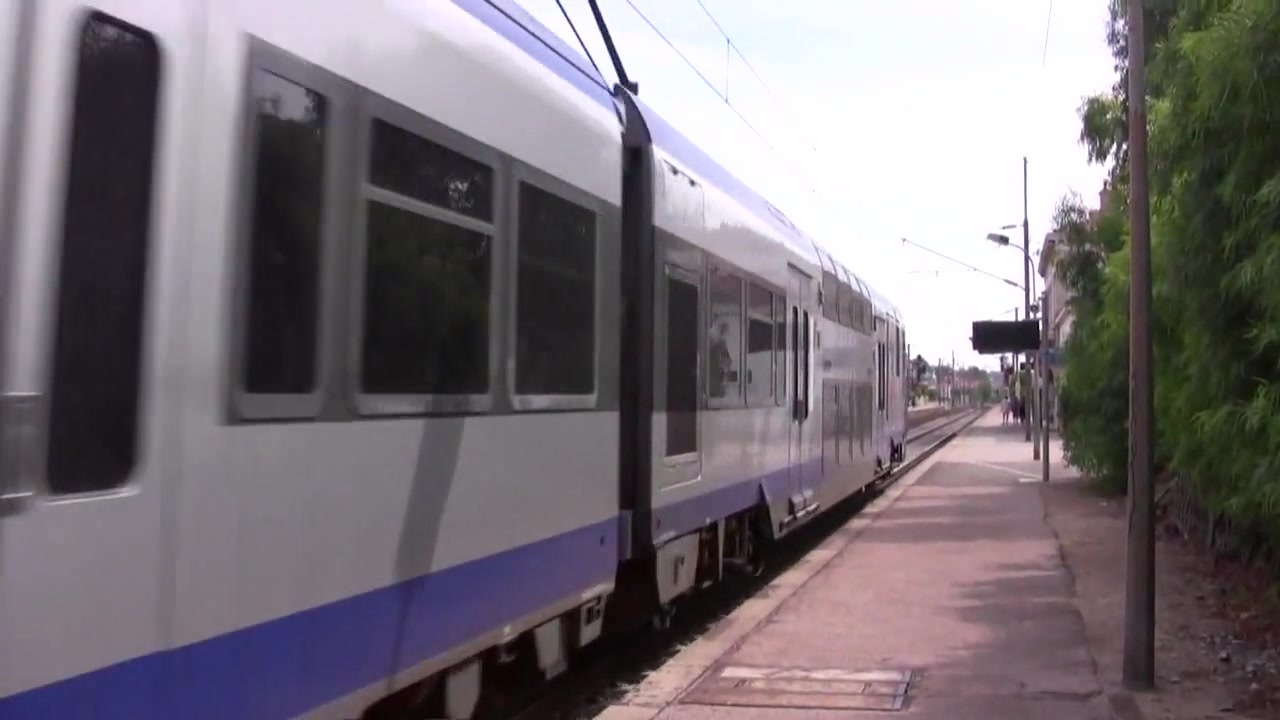train: (1, 1, 914, 720)
